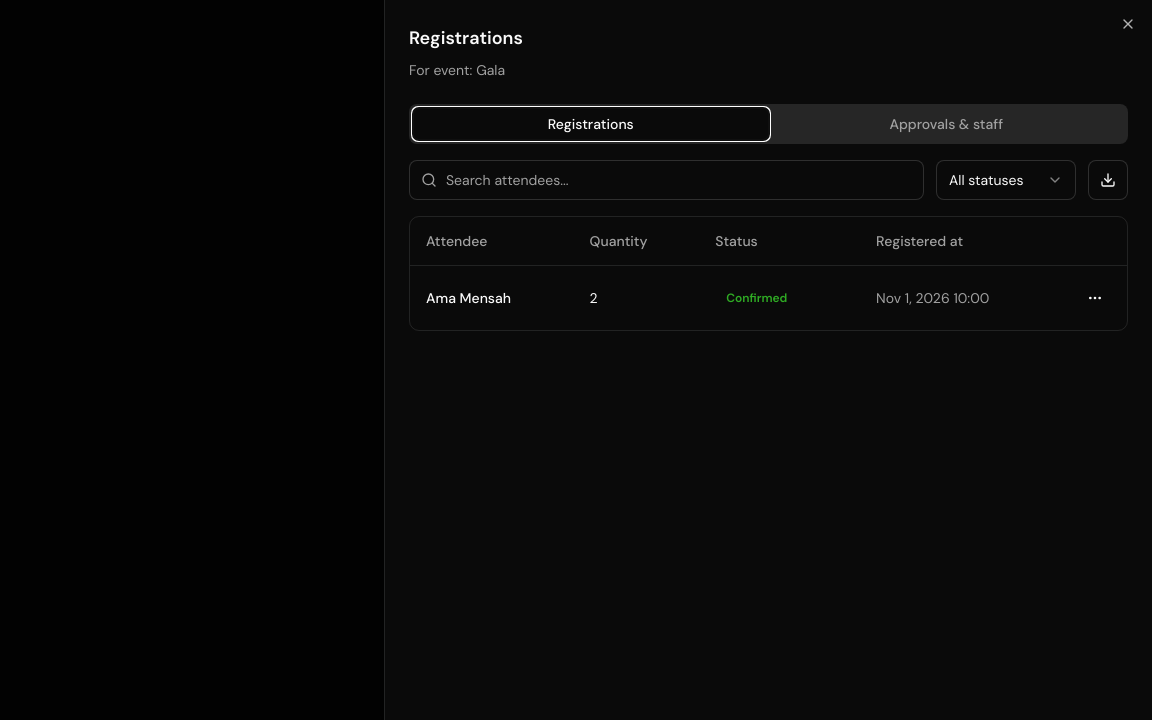
Test case: RegistrationsDrawer (admin-hub) › shows answers per registrant with translated default names, no ids; check-in and remove still work
Later steps or results of the test are not shown.
Expected: the text "Ama Mensah" is shown, [410, 265, 574, 330]
Expected: the button named "export csv" is shown, [1088, 160, 1128, 200]
Press Enter in the button without text in the row of "Ama Mensah", box [1079, 282, 1111, 314]
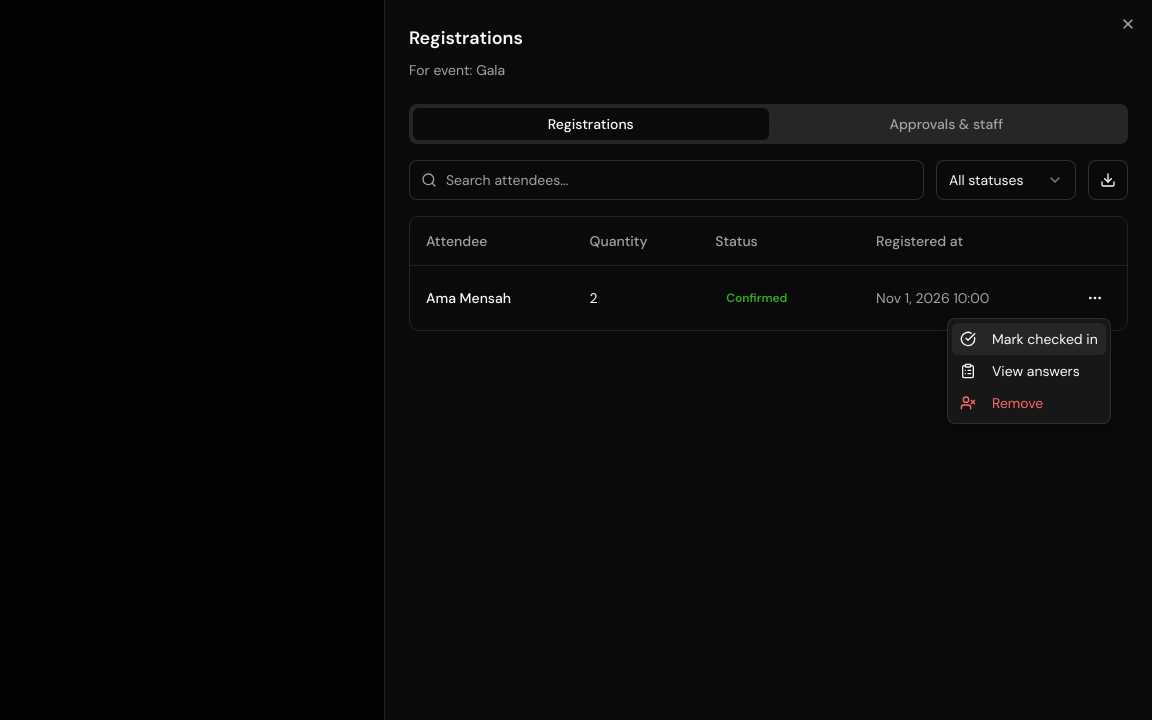
Click the menu item "View answers" at (1020, 371), box [960, 362, 1080, 380]
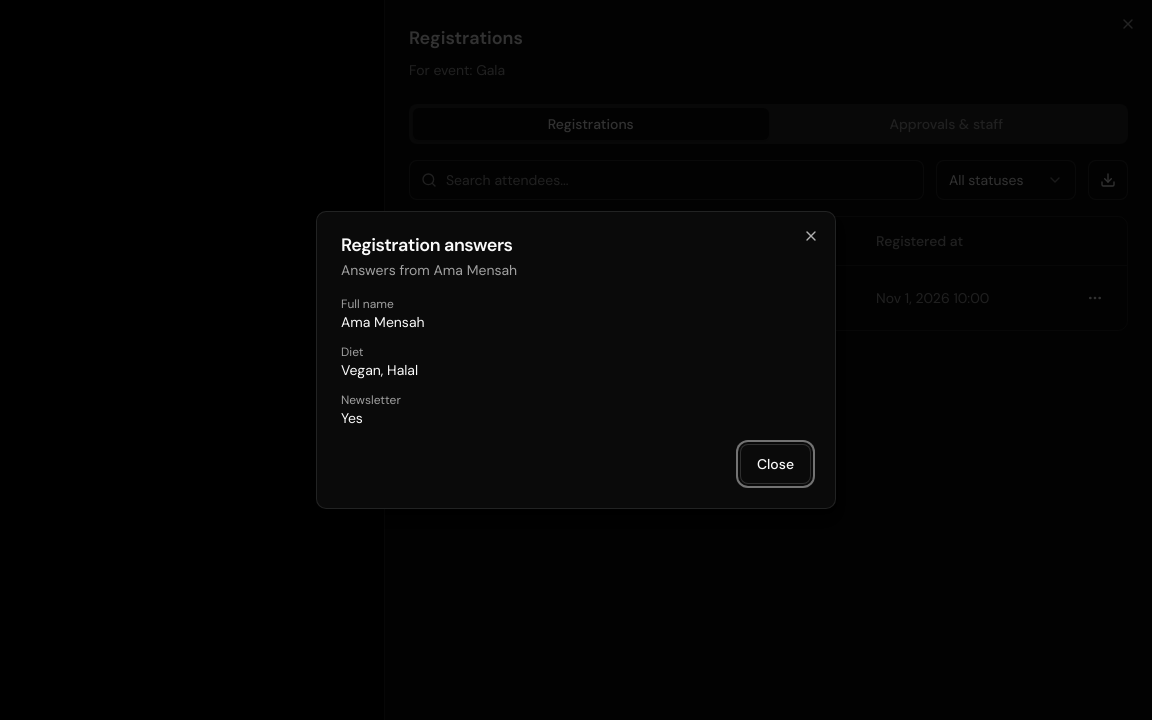
Result: the text "Vegan, Halal" is shown at [341, 361, 418, 379]
Result: the text "Yes" is shown at [341, 409, 363, 427]
Result: the text "Full name" is shown at [341, 296, 394, 312]
Click the button "Close" at (775, 464), box [740, 444, 811, 484]
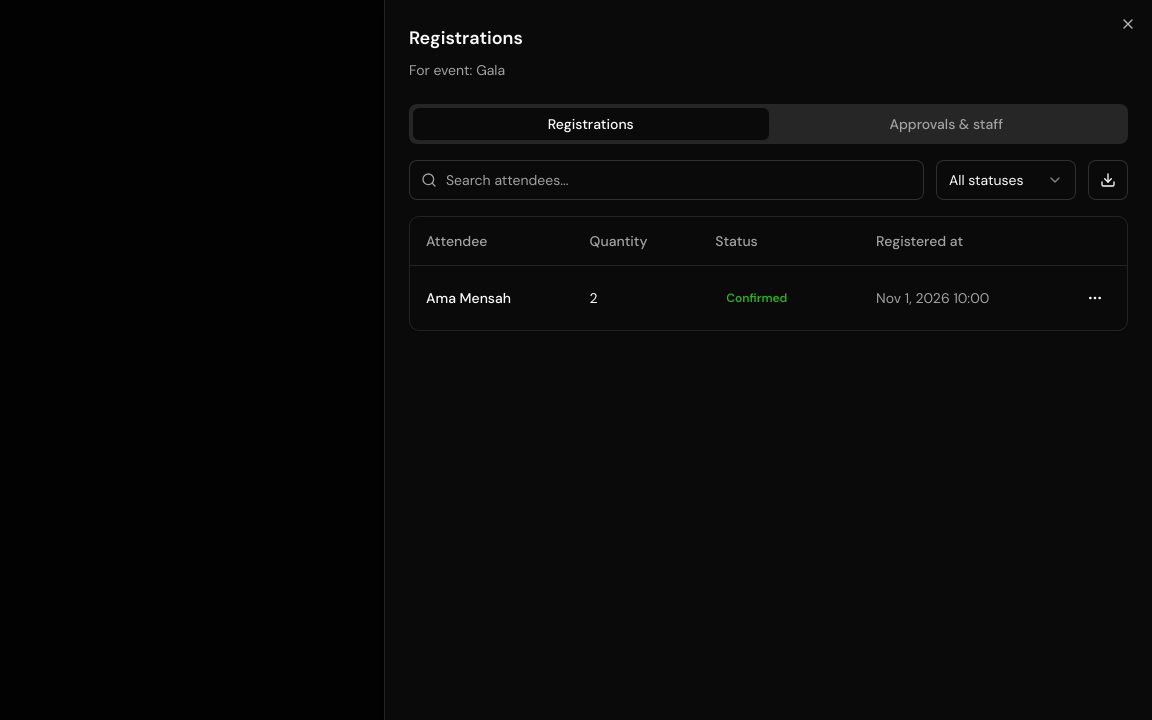
Result: the text "Vegan, Halal" is gone
